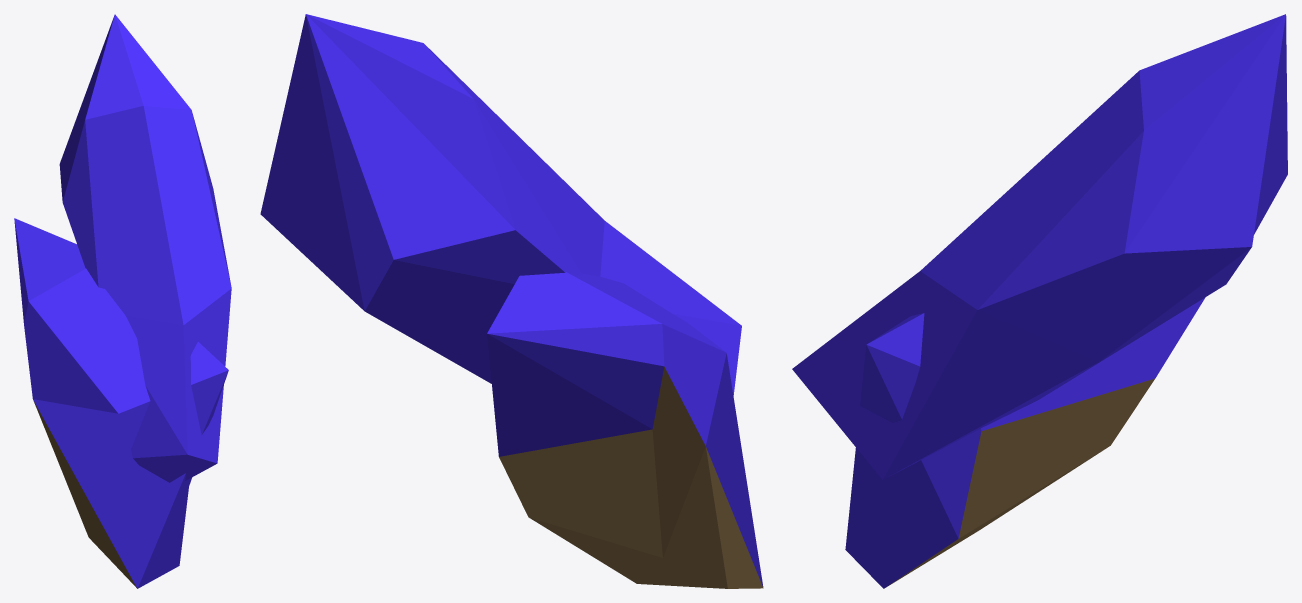
Rendered from cristal_broken3.fbx.
3 views of the same model, side by side, from view 1: azimuth 30°, elevation 25°; view 2: azimuth 150°, elevation 25°; view 3: azimuth 270°, elevation 25° (orthographic). The views are drawn at different scales.
Parts seen in each view (by area): view 1: Object029; view 2: Object029; view 3: Object029.
Boxes of the visible parts, <box> form: Object029: <box>14,14,231,588</box>; Object029: <box>260,14,763,588</box>; Object029: <box>792,14,1287,588</box>.
Size of the model in its own units: 5.49 by 10.99 by 7.87.
